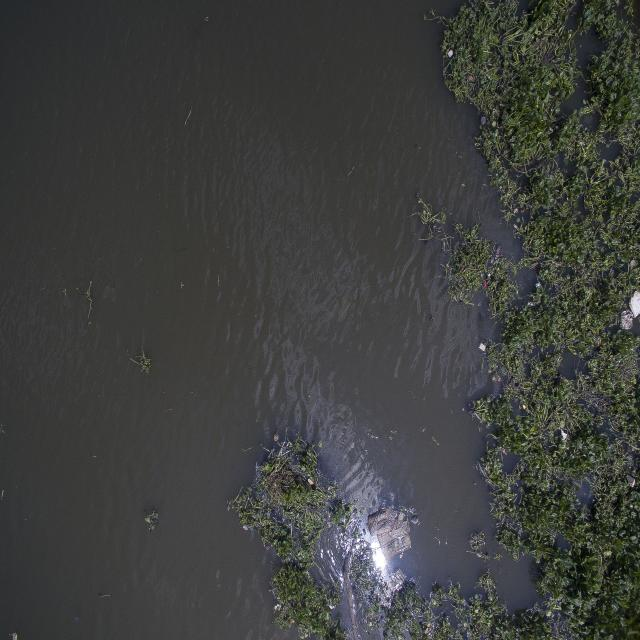Plastic: (367, 505, 416, 560), (622, 284, 640, 336), (479, 342, 486, 351)
